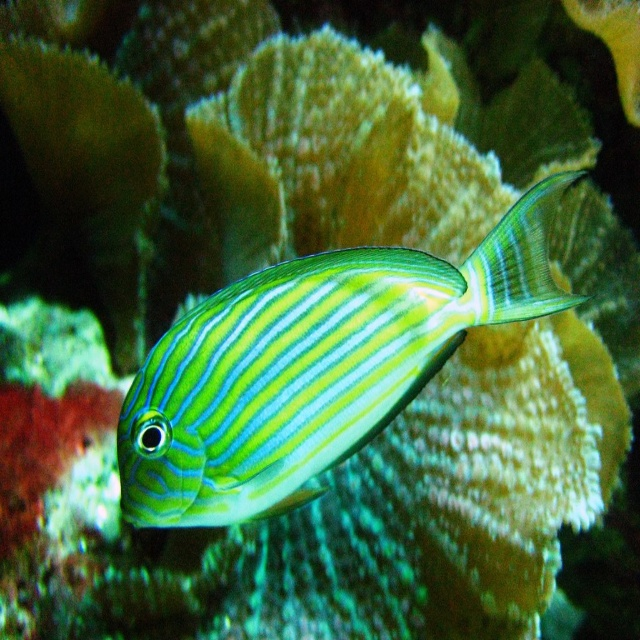Fish: (116, 169, 596, 528)
